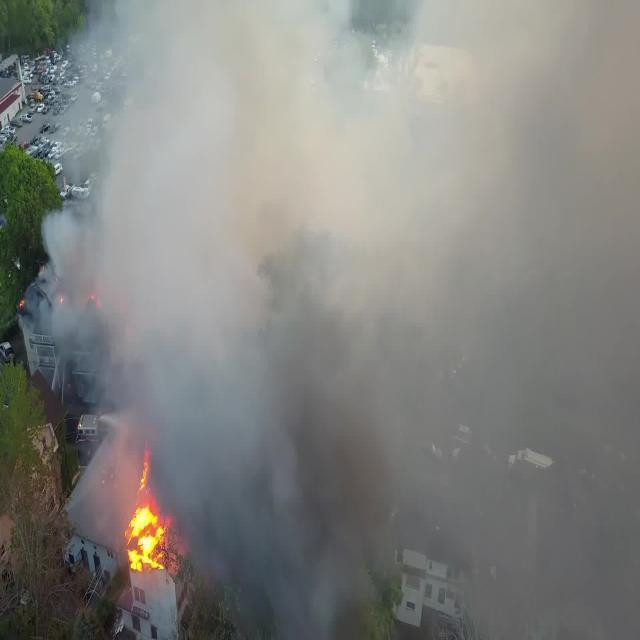Fire: (118, 446, 180, 592)
Smoke: (77, 0, 640, 435), (185, 437, 640, 640)
